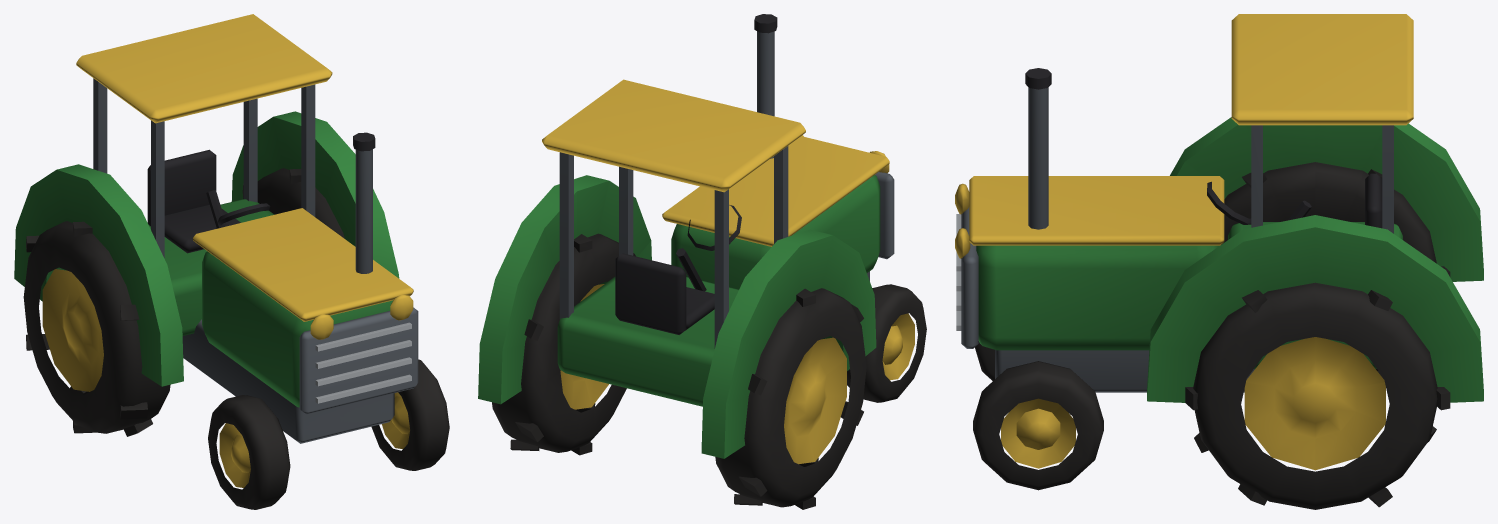
File: prop.tractor.glb
The picture shows the model from 3 angles, left to right: view 1: azimuth 30°, elevation 25°; view 2: azimuth 150°, elevation 25°; view 3: azimuth 270°, elevation 25°; orthographic projection. The views are drawn at different scales.
Visible parts, largest first — view 1: tractor; view 2: tractor; view 3: tractor.
Part boxes in pixels (x1,y1,x2,y2): tractor: (14,14,449,509); tractor: (478,14,926,509); tractor: (955,14,1483,509).
Bounding box in the file's own units: 2.48 × 2.97 × 3.63.
